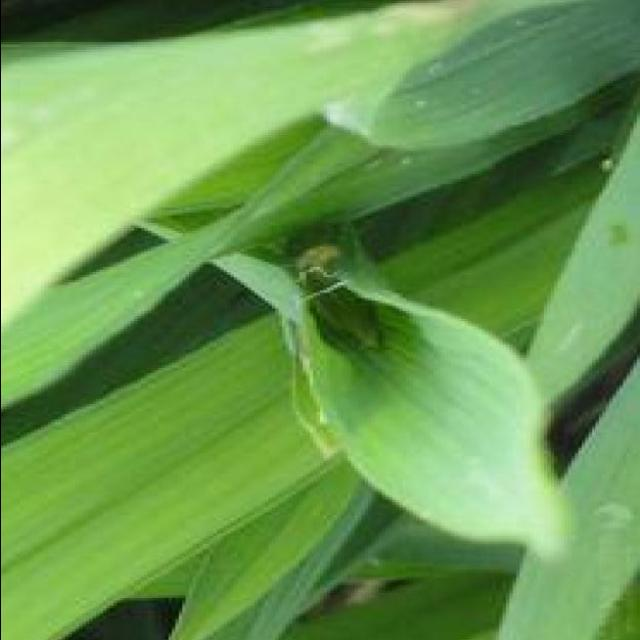leaf folder: (298, 244, 337, 275)
